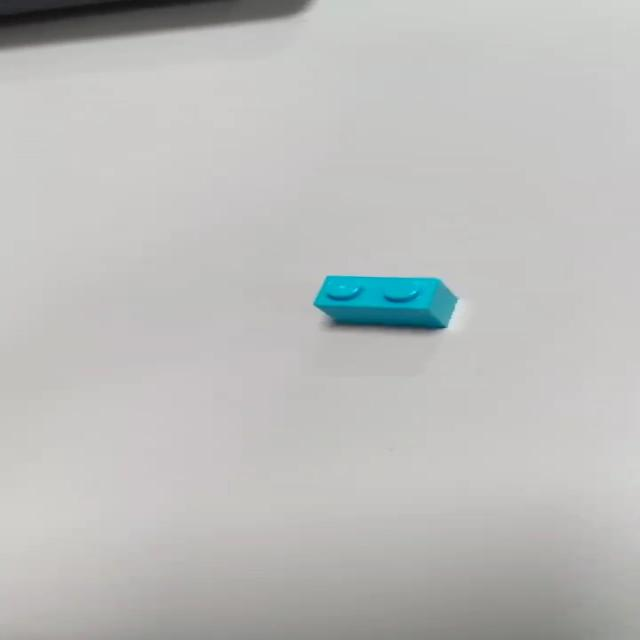C2x1x1: (311, 274, 459, 328)
